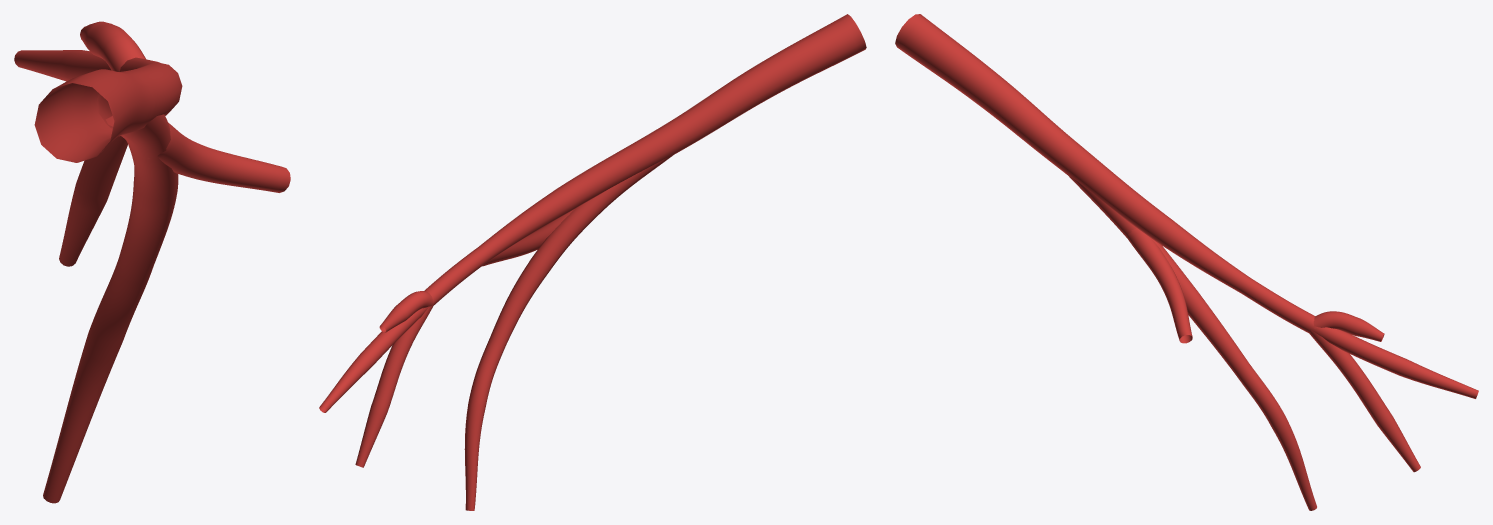
The picture shows the model from 3 angles, left to right: view 1: azimuth 30°, elevation 25°; view 2: azimuth 150°, elevation 25°; view 3: azimuth 270°, elevation 25°; orthographic projection. The views are drawn at different scales.
Parts seen in each view (by area): view 1: 左肺外侧底段动脉; view 2: 左肺外侧底段动脉; view 3: 左肺外侧底段动脉.
Part boxes in pixels (x1,y1,x2,y2): 左肺外侧底段动脉: [14, 21, 290, 503]; 左肺外侧底段动脉: [319, 14, 866, 510]; 左肺外侧底段动脉: [895, 14, 1478, 510].
Bounding box in the file's own units: 0.1033 × 0.1443 × 0.1892.
